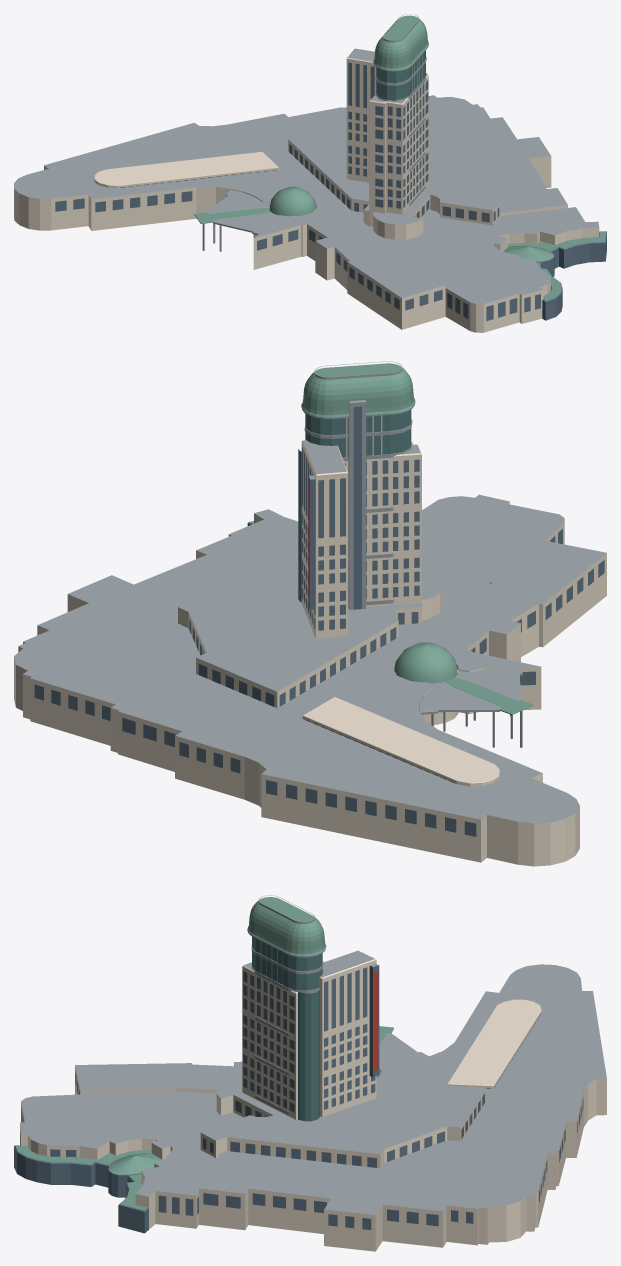
The model's file is niagara-fallsview-casino.glb.
3 views of the same model, one above another, from view 1: azimuth 30°, elevation 25°; view 2: azimuth 150°, elevation 25°; view 3: azimuth 270°, elevation 25° (orthographic). The views are drawn at different scales.
Visible parts, largest first — view 1: Fallsview Casino Resort; view 2: Fallsview Casino Resort; view 3: Fallsview Casino Resort.
Part boxes in pixels (x1,y1,x2,y2): Fallsview Casino Resort: [14, 14, 606, 332]; Fallsview Casino Resort: [14, 361, 606, 866]; Fallsview Casino Resort: [14, 895, 606, 1251].
Bounding box in the file's own units: 261 × 118 × 261.
